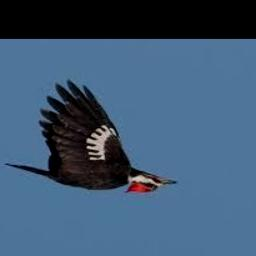Woodpecker: (5, 81, 175, 194)
